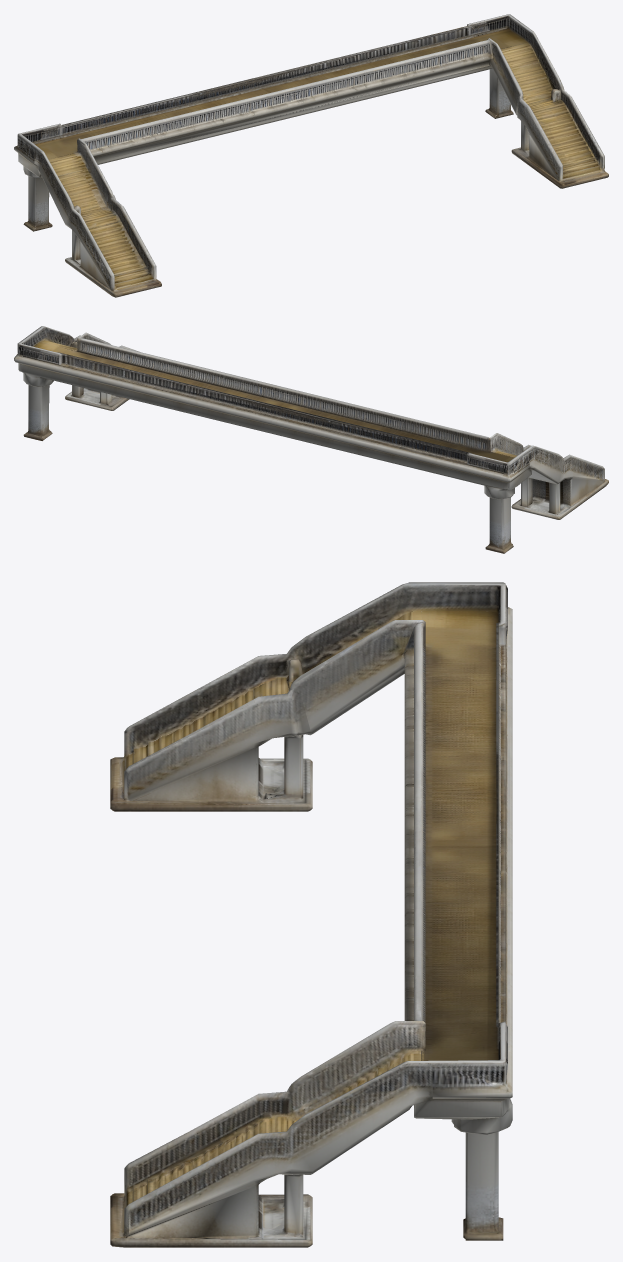
The model's file is Meshy_AI_Overpass_Reflection_0207001432_texture.fbx.
3 views of the same model, one above another, from view 1: azimuth 30°, elevation 25°; view 2: azimuth 150°, elevation 25°; view 3: azimuth 270°, elevation 25° (orthographic). The views are drawn at different scales.
Visible parts, largest first — view 1: Mesh_0; view 2: Mesh_0; view 3: Mesh_0.
Boxes of the visible parts, left/top/right/bottom form: Mesh_0: left=14, top=14, right=608, bottom=297; Mesh_0: left=14, top=326, right=608, bottom=553; Mesh_0: left=110, top=582, right=512, bottom=1247.
Bounding box in the file's own units: 200 × 35.73 × 70.23.
